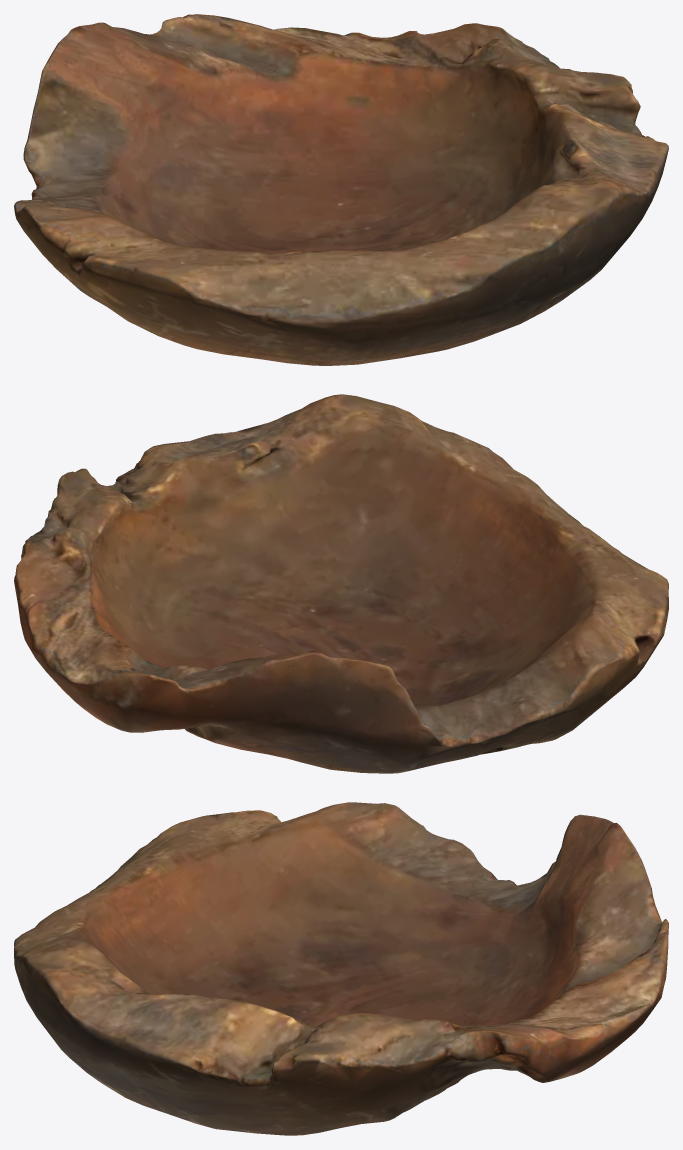
Rendered from wooden_bowl_01.glb.
The picture shows the model from 3 angles, top to bottom: view 1: azimuth 30°, elevation 25°; view 2: azimuth 150°, elevation 25°; view 3: azimuth 270°, elevation 25°; orthographic projection. The views are drawn at different scales.
Parts seen in each view (by area): view 1: wooden_bowl_01; view 2: wooden_bowl_01; view 3: wooden_bowl_01.
Part boxes in pixels (bbox=[...]): wooden_bowl_01: bbox=[14, 14, 668, 365]; wooden_bowl_01: bbox=[14, 394, 668, 773]; wooden_bowl_01: bbox=[14, 802, 668, 1135].
Bounding box in the file's own units: 0.313 × 0.0937 × 0.3091.
1 material, 1 textured.
